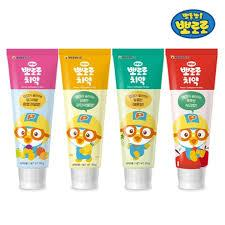toothpaste: (56, 42, 116, 194), (1, 46, 55, 197), (165, 43, 219, 190), (111, 44, 163, 190)
